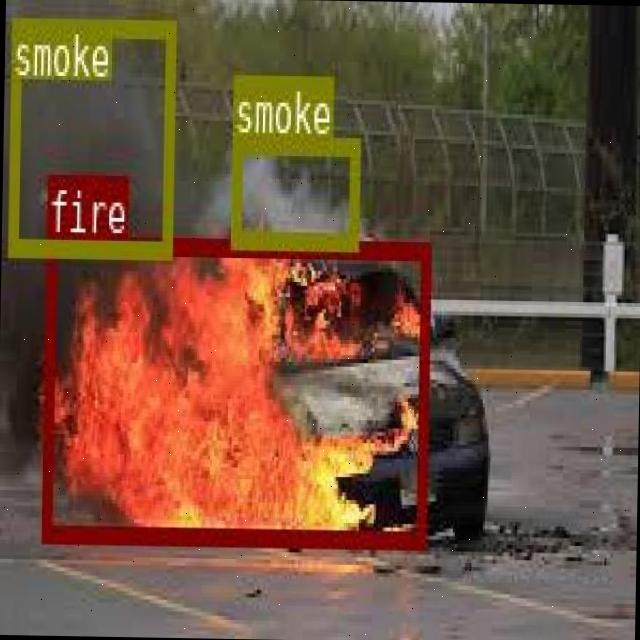fire: (41, 234, 428, 545)
smoke: (7, 16, 174, 254), (230, 134, 358, 246)
